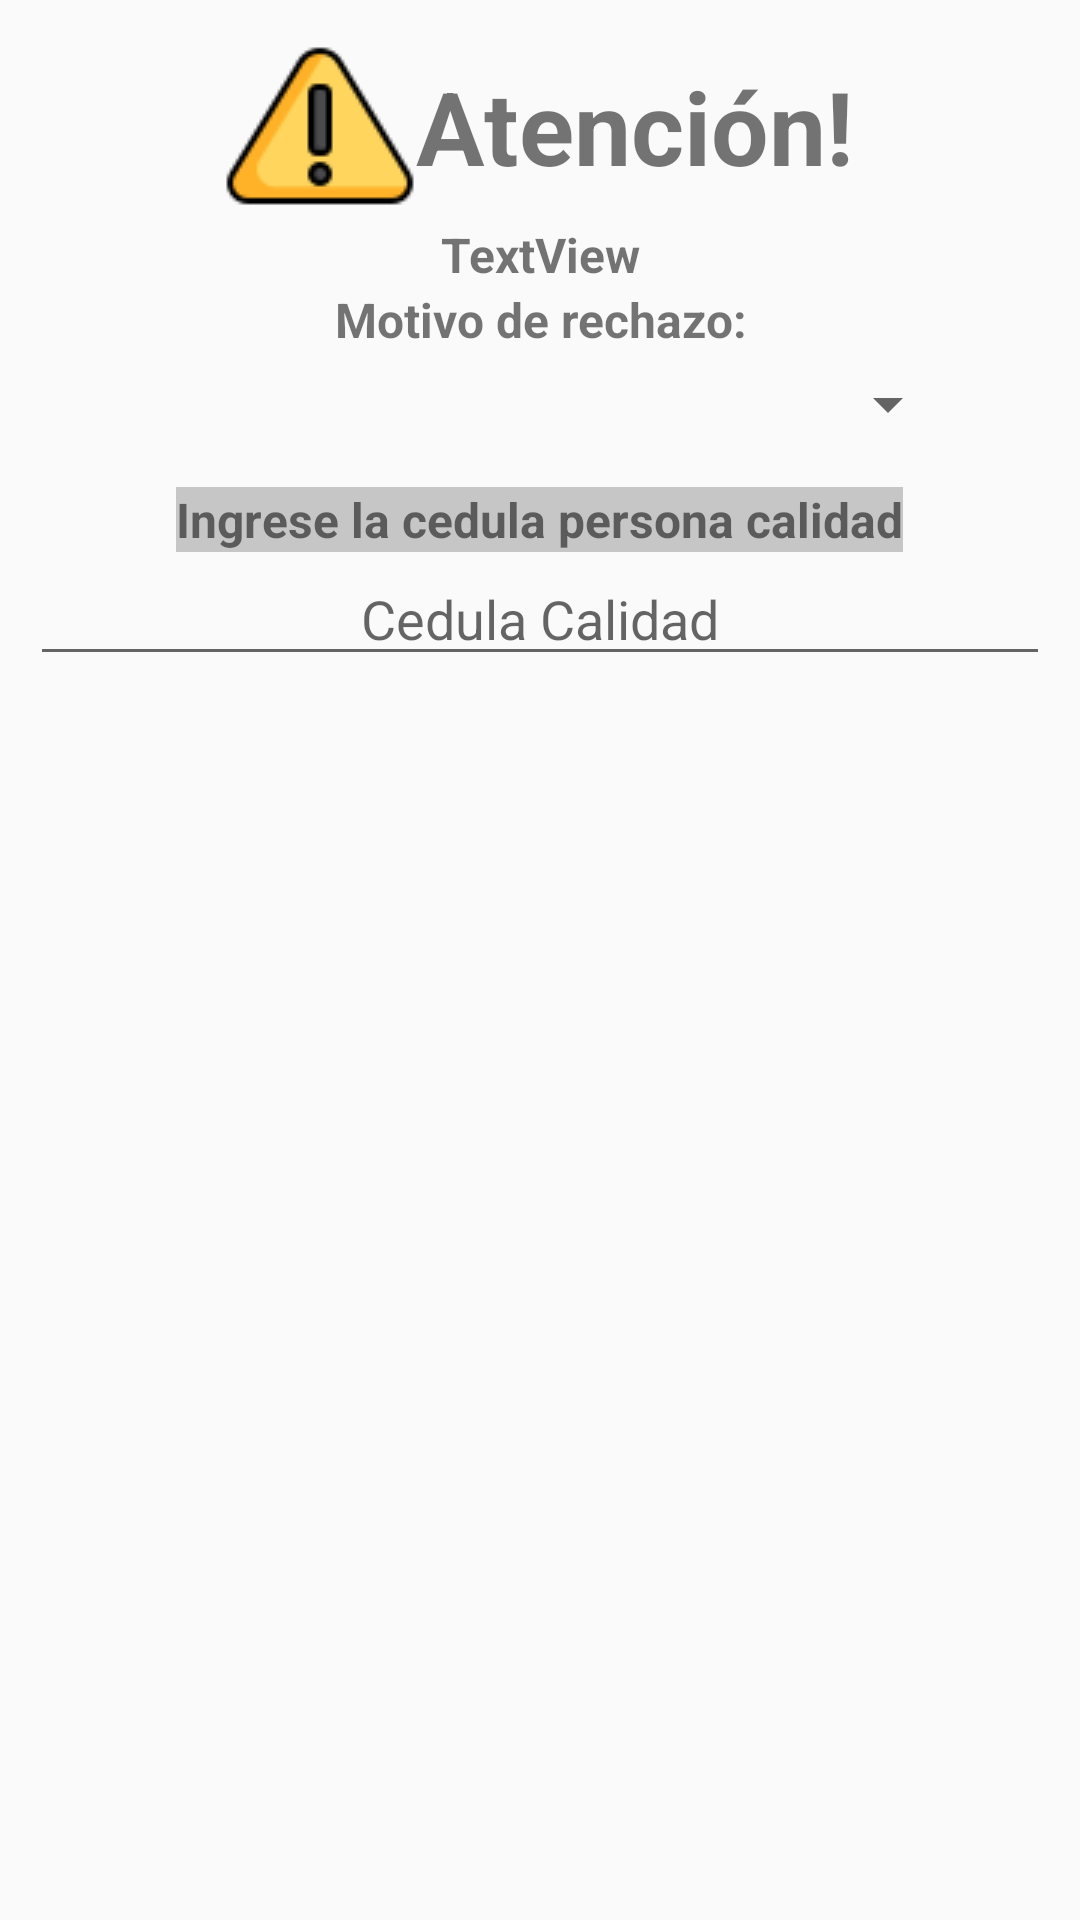

Icons on this 1080 × 1920 Android screen, each with its box as (x1,y1,x2,y2):
advertencia: (226,47,414,205)
